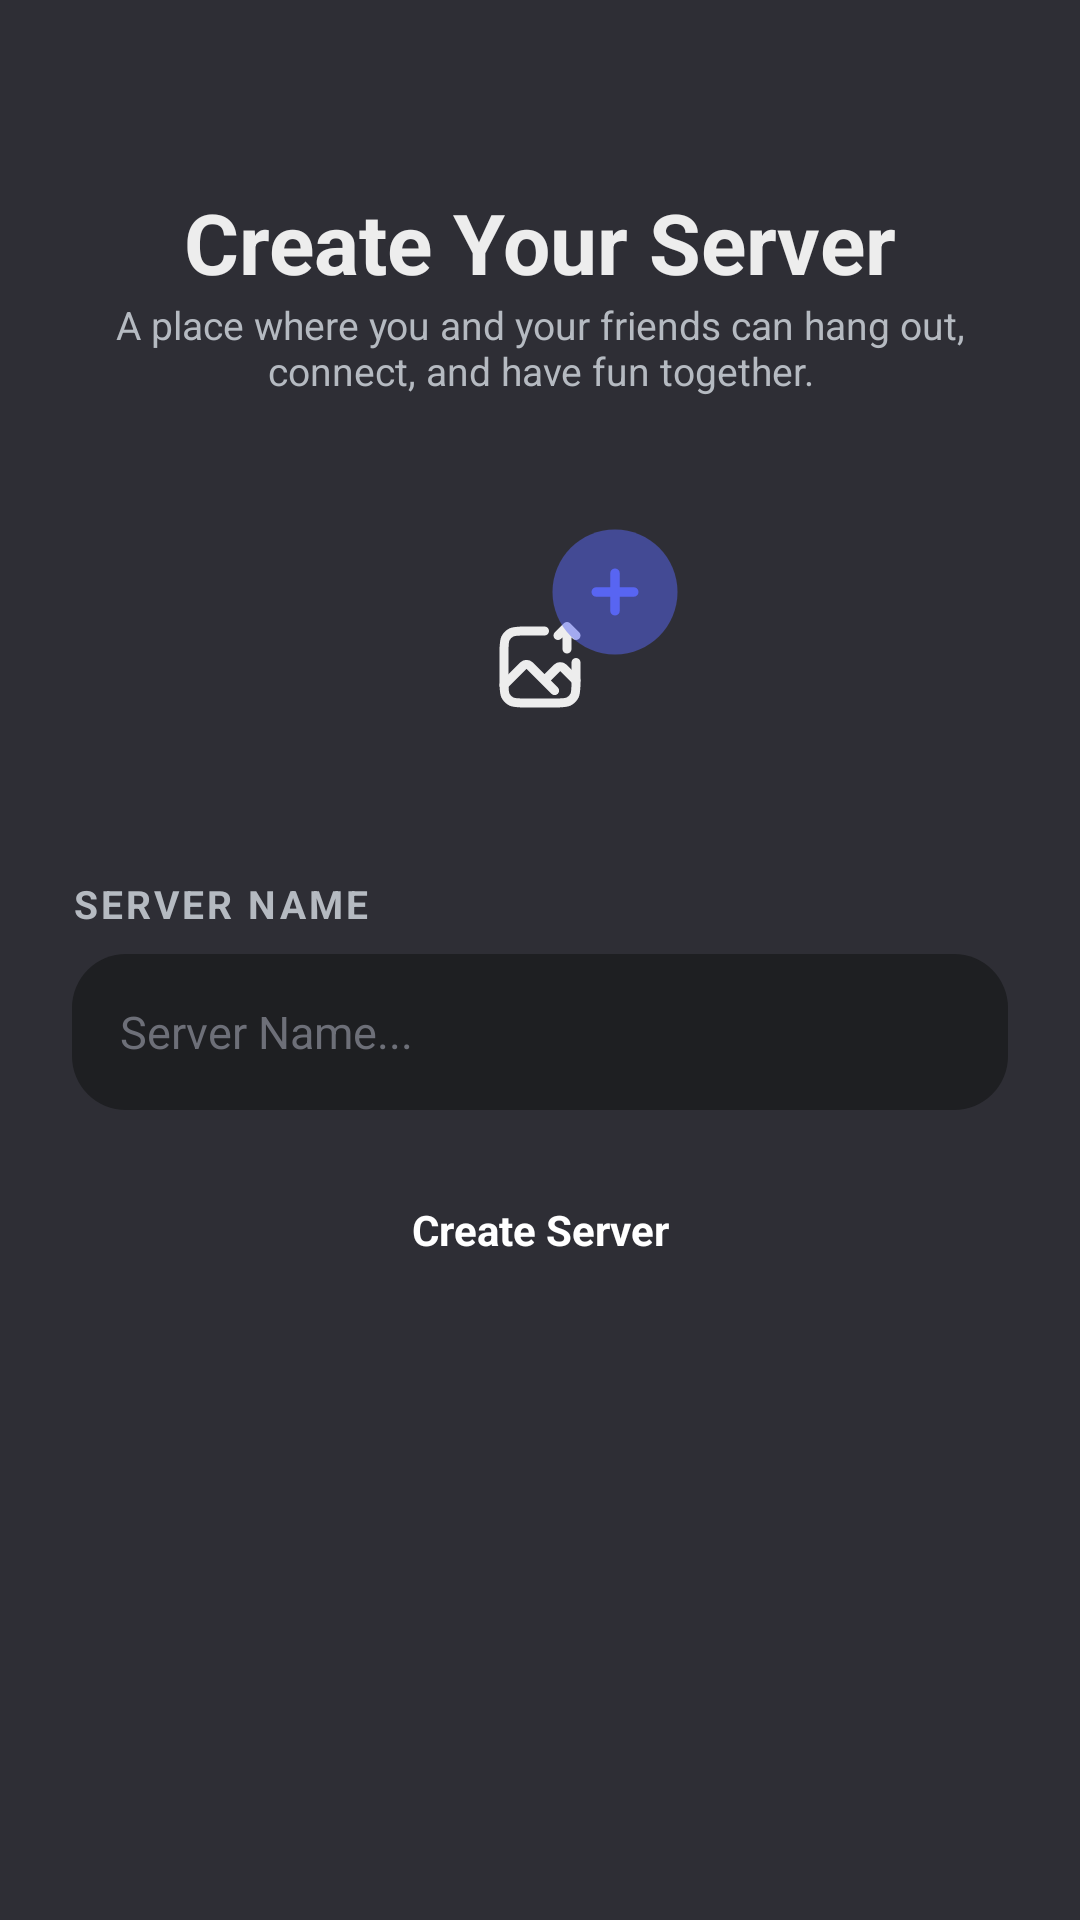

Named icons in this screenshot (1080w x 1920h) and their centers, point (x, y):
add: point (615, 592)
upload: point (540, 667)
